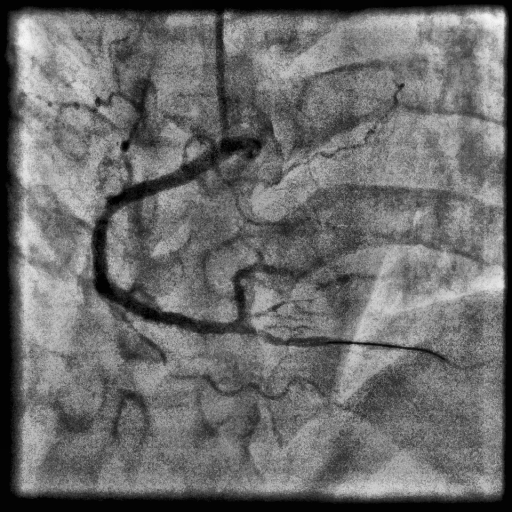pborca: (232, 264, 299, 332)
pda: (236, 325, 454, 363)
rca: (92, 141, 239, 334)
